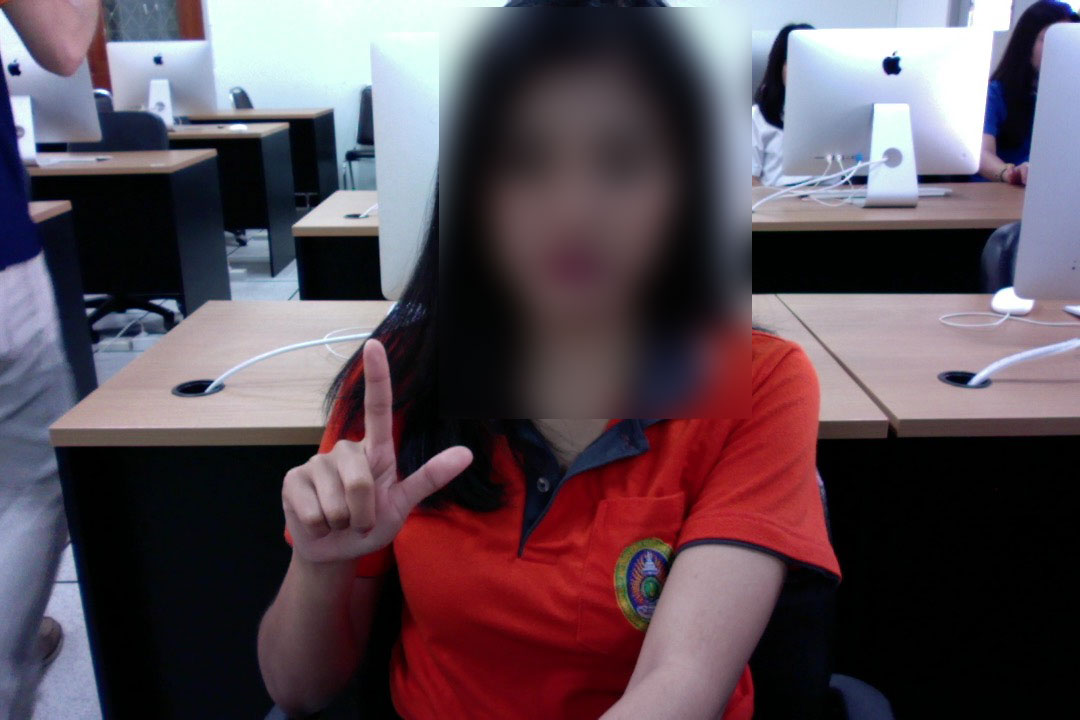lor: (276, 329, 480, 570)
